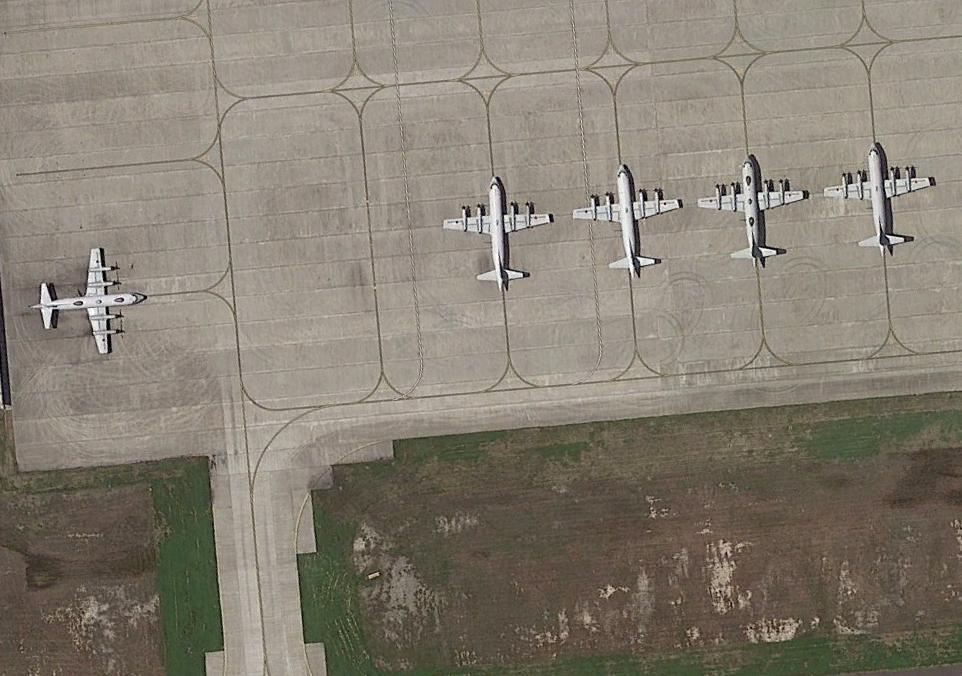A9: (18, 238, 145, 360), (439, 170, 554, 297), (569, 161, 684, 288), (692, 151, 807, 278), (820, 138, 935, 265)
